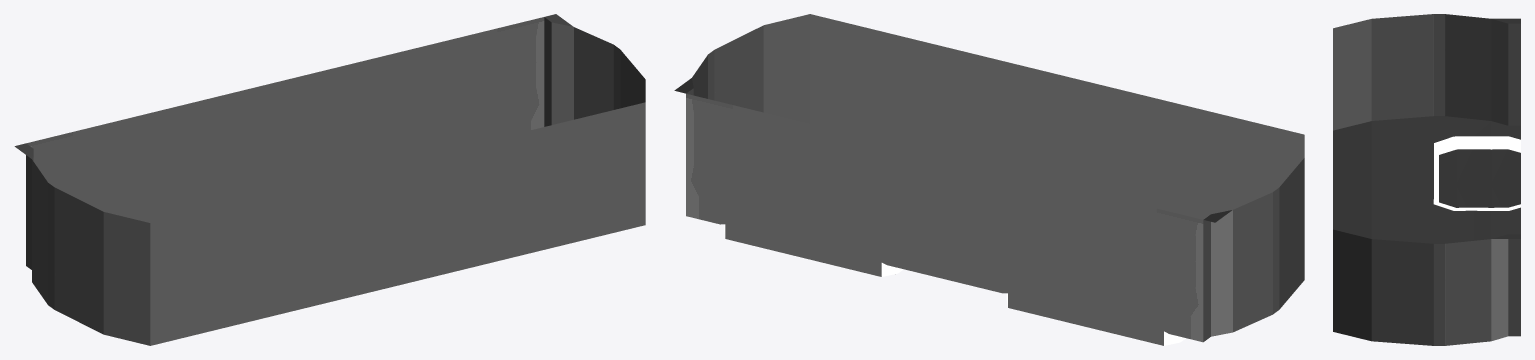
3 views of the same model, side by side, from view 1: azimuth 30°, elevation 25°; view 2: azimuth 150°, elevation 25°; view 3: azimuth 270°, elevation 25° (orthographic). The views are drawn at different scales.
Parts seen in each view (by area): view 1: group_13; view 2: group_13; view 3: group_13, group_25.
Boxes of the visible parts, x1=… form: group_13: x1=14, y1=14, x2=645, y2=345; group_13: x1=674, y1=14, x2=1304, y2=345; group_13: x1=1333, y1=14, x2=1520, y2=345; group_25: x1=1433, y1=136, x2=1520, y2=210.
Size of the model in its own units: 14034 by 3227 by 4850.
2 materials, 2 textured.
